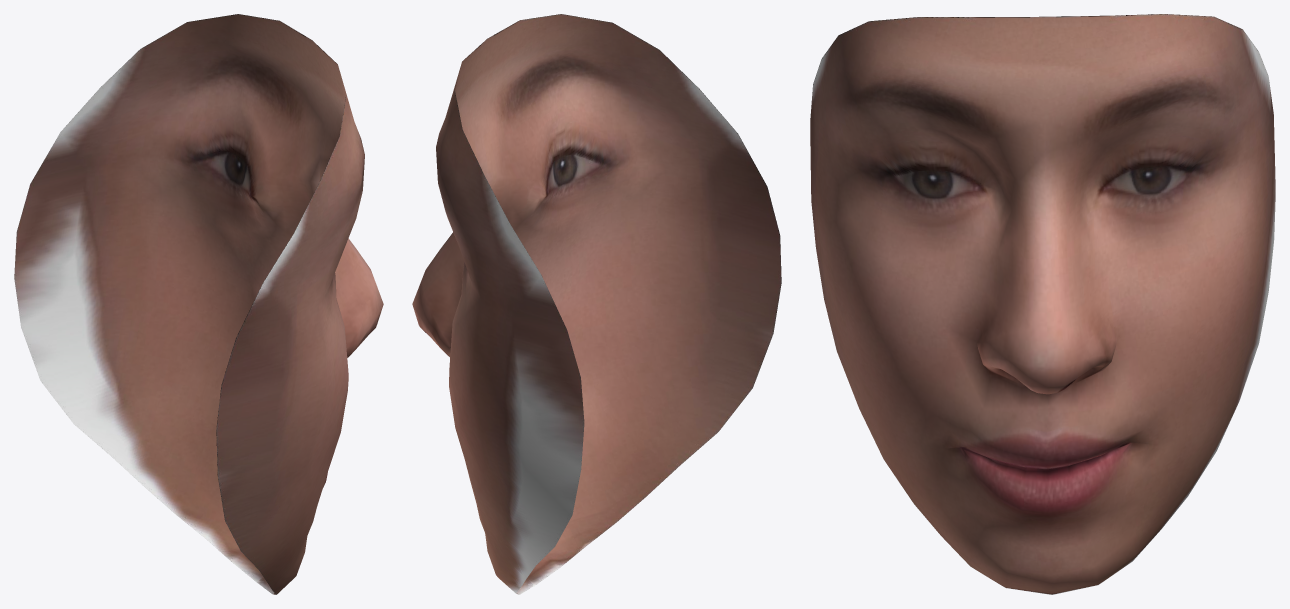
File: tiktok_lifestyle.glb
3 views of the same model, side by side, from view 1: azimuth 30°, elevation 25°; view 2: azimuth 150°, elevation 25°; view 3: azimuth 270°, elevation 25° (orthographic). The views are drawn at different scales.
Visible parts, largest first — view 1: tiktok_lifestyle; view 2: tiktok_lifestyle; view 3: tiktok_lifestyle.
Boxes of the visible parts, <box> form: tiktok_lifestyle: <box>14,14,383,594</box>; tiktok_lifestyle: <box>412,14,781,594</box>; tiktok_lifestyle: <box>810,14,1275,594</box>.
Bounding box in the file's own units: 0.4474 × 0.8622 × 0.5993.
1 material, 1 textured.
